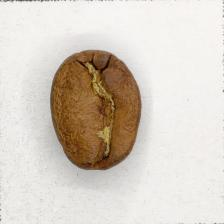NG: (61, 64, 121, 158)
